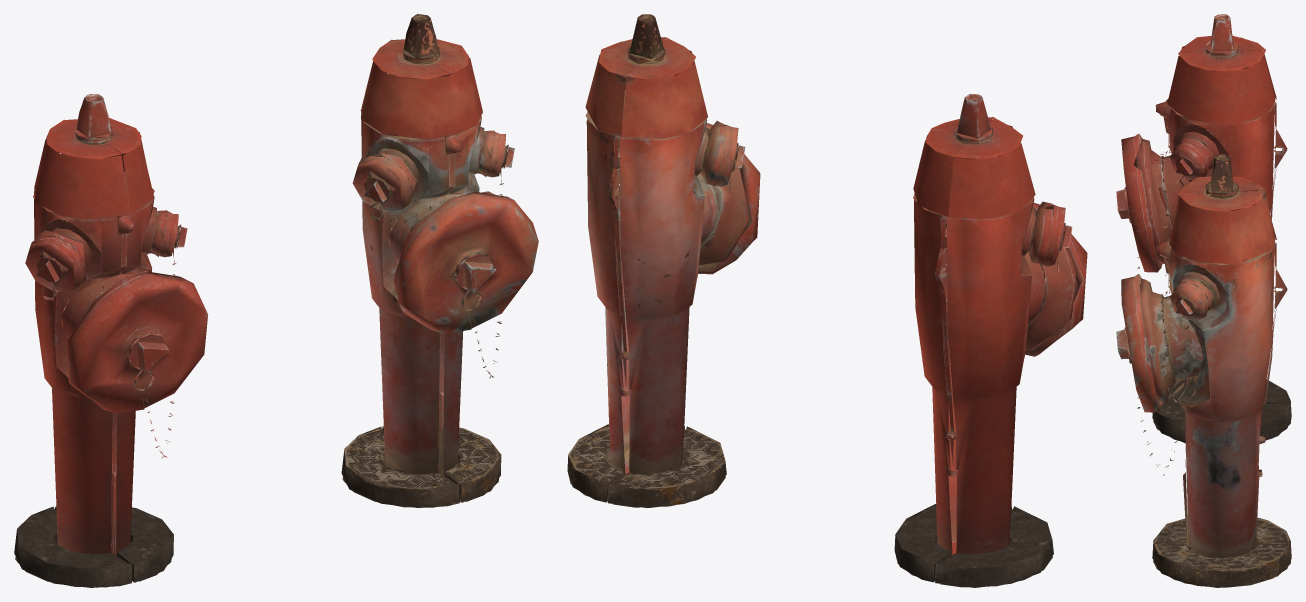
The model's file is fire_hydrant.glb.
3 views of the same model, side by side, from view 1: azimuth 30°, elevation 25°; view 2: azimuth 150°, elevation 25°; view 3: azimuth 270°, elevation 25° (orthographic). The views are drawn at different scales.
Parts seen in each view (by area): view 1: fire_hydrant.001; view 2: fire_hydrant.001; view 3: fire_hydrant.001.
Boxes of the visible parts, x1=… form: fire_hydrant.001: x1=14, y1=14, x2=538, y2=587; fire_hydrant.001: x1=567, y1=14, x2=1087, y2=587; fire_hydrant.001: x1=1116, y1=14, x2=1291, y2=587.
Size of the model in its own units: 0.8742 by 0.8003 by 0.3173.
2 materials, 2 textured.
